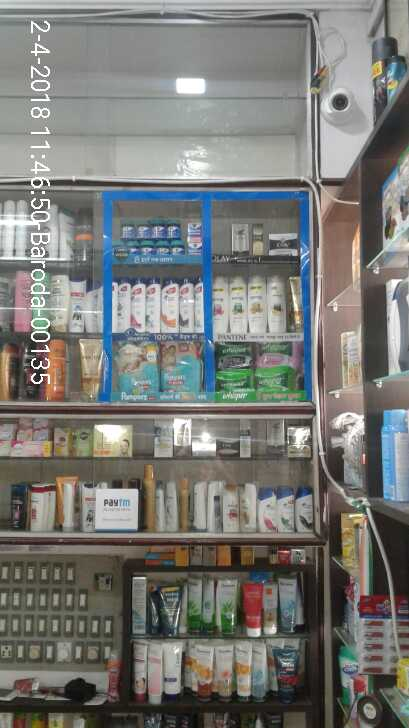vicks: (165, 218, 181, 236), (170, 238, 185, 255), (136, 218, 149, 237), (123, 218, 135, 238), (140, 240, 157, 253), (187, 223, 202, 236), (153, 218, 163, 235), (187, 240, 200, 253), (158, 240, 169, 255), (129, 239, 140, 253)
